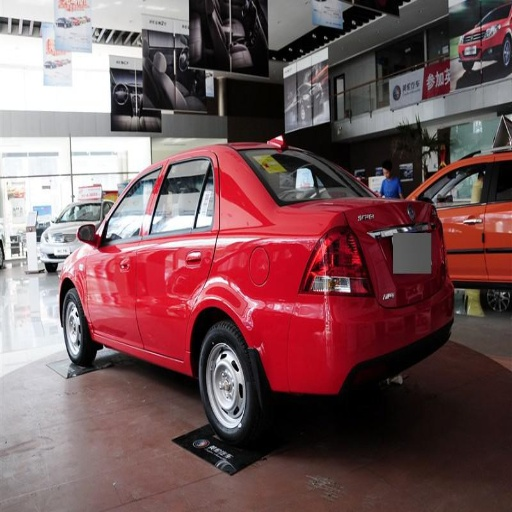back_bumper: (259, 280, 452, 397)
back_glass: (242, 150, 354, 203)
back_left_door: (136, 154, 214, 358)
tailgate: (327, 198, 436, 293)
trunk: (319, 278, 438, 342), (285, 313, 315, 369)
